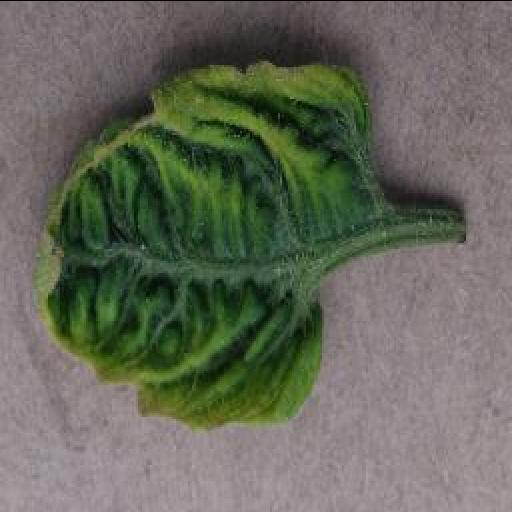disease_tomato: (36, 58, 390, 432)
